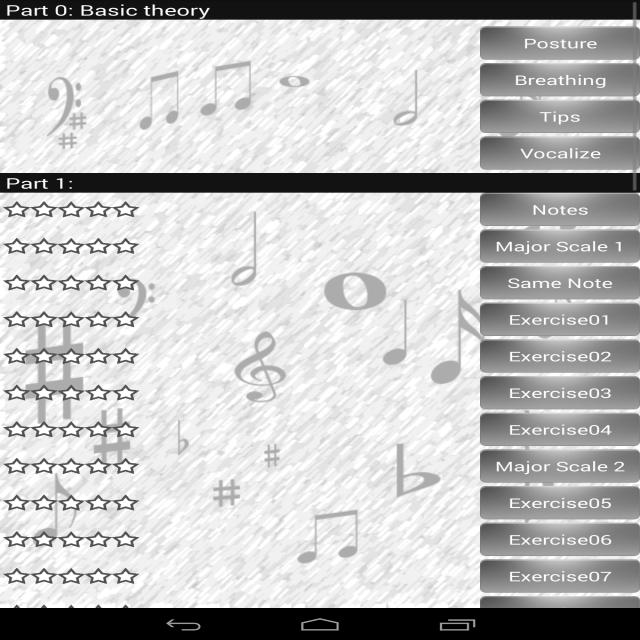Button: (469, 334, 639, 375), (472, 446, 637, 485), (472, 555, 634, 594), (477, 226, 637, 265), (470, 97, 632, 134)
RatingBar: (1, 344, 152, 369), (3, 197, 159, 220), (6, 235, 147, 259), (5, 492, 149, 514), (7, 563, 142, 586), (3, 420, 142, 439)
TextView: (1, 3, 209, 21), (2, 172, 76, 192)
